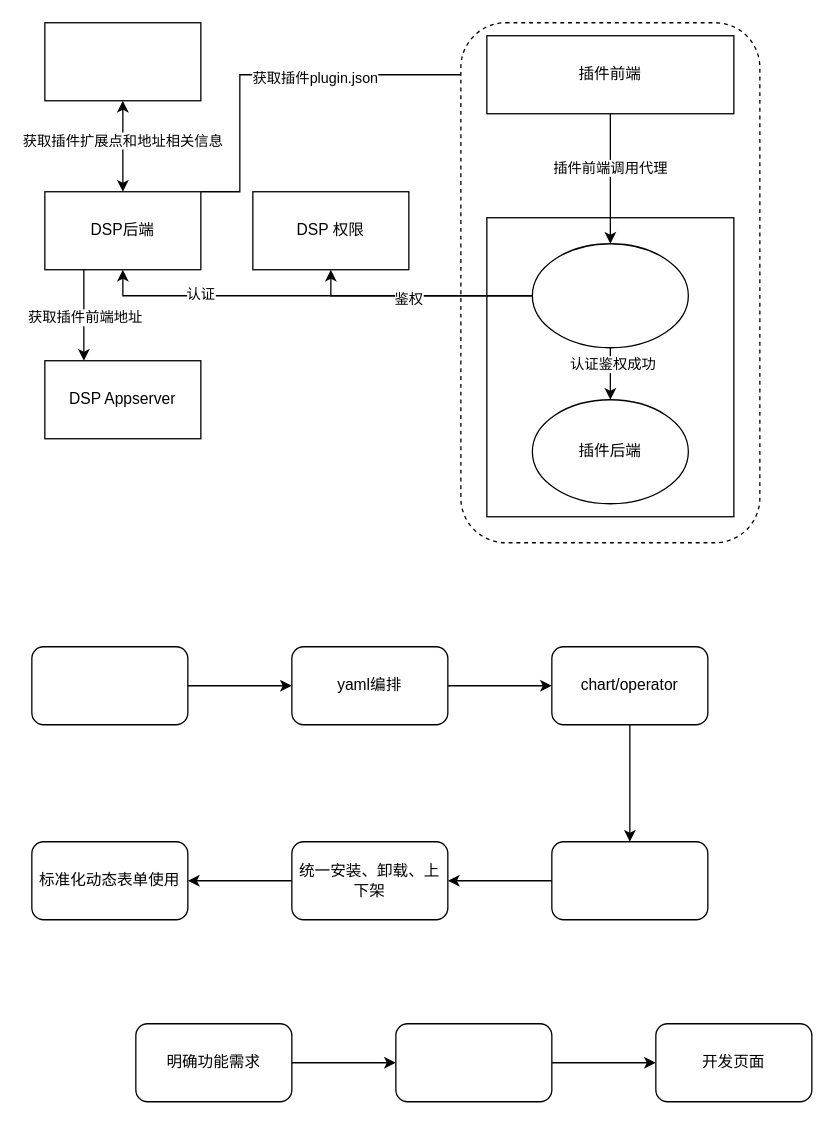
Image size: 835x1125. Some labels were removed from this diagram. The centre of each missing label's shape, as x and y in pixels:
AuthProxy 1、用户认证 2、用户鉴权: the point at 609,295
DSP前端: the point at 122,61
技术组件容器化: the point at 109,685
接入DSP: the point at 629,880
提供或设计OpenAPI: the point at 473,1062
